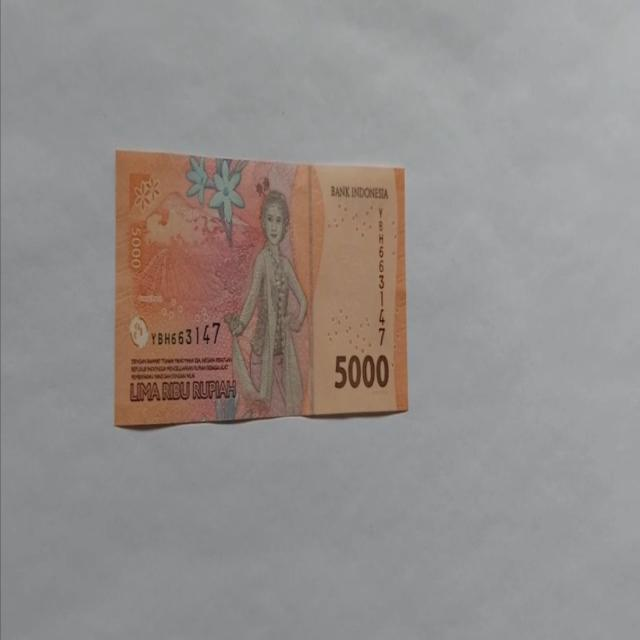lima ribu rupiah: (114, 148, 408, 428), (224, 188, 308, 418)
